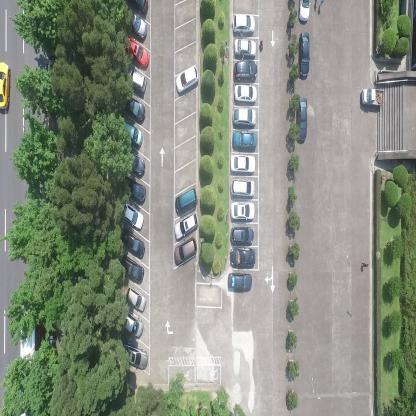car: (124, 35, 150, 68), (120, 226, 145, 259), (175, 63, 199, 96), (174, 234, 197, 268), (122, 341, 148, 371), (174, 211, 198, 241), (121, 201, 144, 232), (121, 254, 144, 284), (174, 186, 198, 214), (122, 96, 146, 124), (124, 149, 146, 178), (124, 284, 146, 312), (124, 176, 146, 204), (127, 10, 147, 40), (231, 152, 256, 175), (234, 58, 257, 82), (231, 107, 255, 130), (122, 313, 144, 338), (230, 249, 256, 270), (0, 57, 10, 110), (228, 273, 253, 294), (128, 66, 146, 95), (230, 201, 256, 221), (296, 96, 307, 143), (123, 120, 142, 147), (233, 13, 255, 36), (231, 226, 255, 247), (231, 178, 256, 198), (299, 31, 309, 79), (232, 131, 257, 150), (233, 84, 256, 104), (235, 37, 256, 58), (362, 86, 383, 106), (126, 0, 148, 16), (297, 0, 311, 23)
